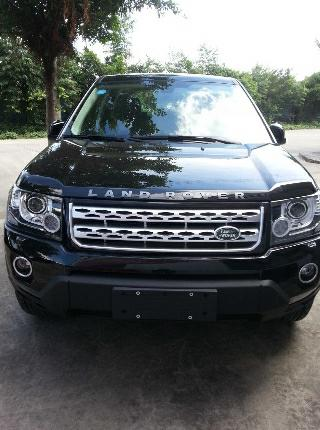MINI-JCWPACEMAN: (0, 64, 320, 326)
